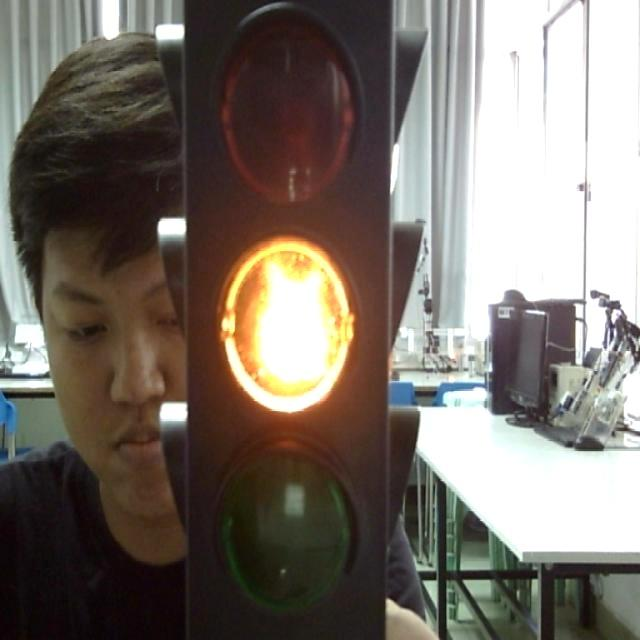Yellow: (171, 1, 402, 640)
